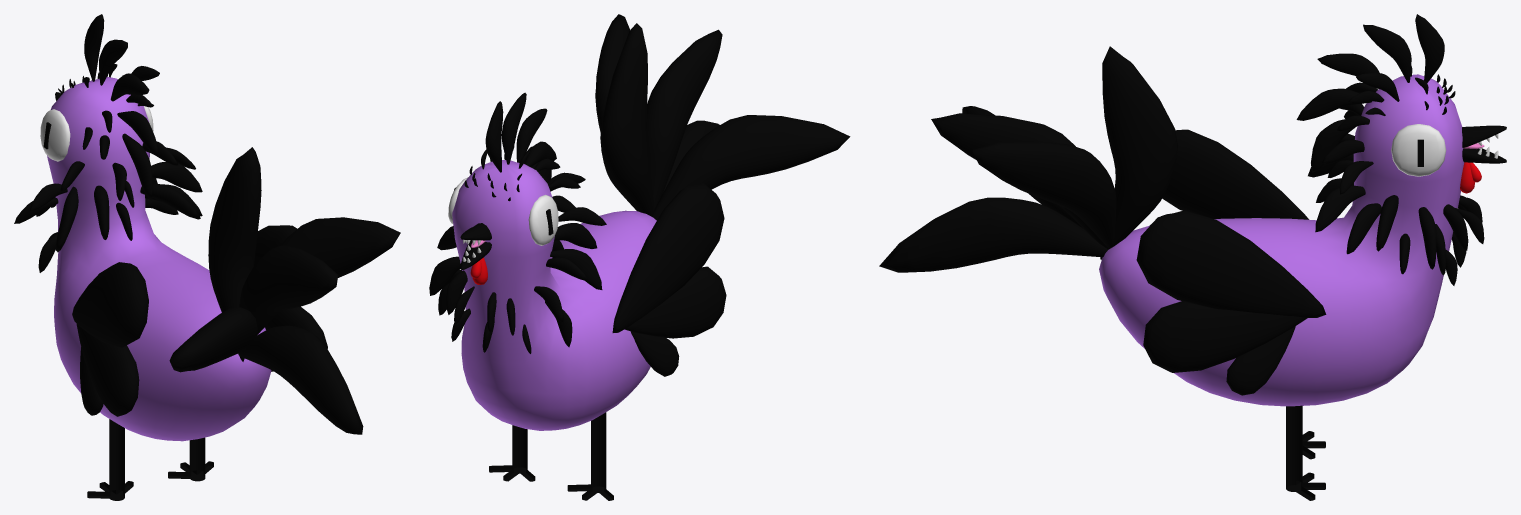
The model's file is badPoule.fbx.
3 views of the same model, side by side, from view 1: azimuth 30°, elevation 25°; view 2: azimuth 150°, elevation 25°; view 3: azimuth 270°, elevation 25° (orthographic). The views are drawn at different scales.
Visible parts, largest first — view 1: Cube.102; view 2: Cube.102; view 3: Cube.102.
Part boxes in pixels (bbox=[...]): Cube.102: bbox=[14, 14, 400, 500]; Cube.102: bbox=[429, 14, 850, 500]; Cube.102: bbox=[879, 14, 1506, 500].
Size of the model in its own units: 163 by 130 by 78.29.
